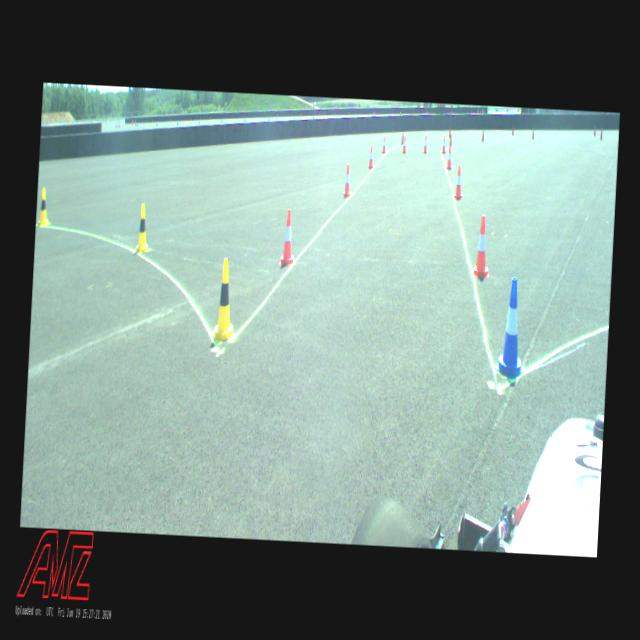blue_cone: (494, 278, 530, 380)
orange_cone: (473, 216, 492, 278), (280, 209, 298, 266), (454, 166, 464, 200), (343, 165, 352, 197), (446, 146, 453, 170), (368, 146, 375, 169), (402, 136, 408, 154), (382, 136, 387, 154), (442, 136, 447, 154), (424, 136, 428, 154)
unknown_cone: (448, 127, 452, 138), (401, 132, 404, 145), (482, 130, 485, 142), (600, 128, 603, 140), (450, 134, 452, 148), (532, 127, 534, 140), (512, 125, 514, 136), (594, 125, 596, 136)
yellow_cone: (212, 258, 238, 343), (136, 204, 150, 253), (38, 188, 51, 228)
